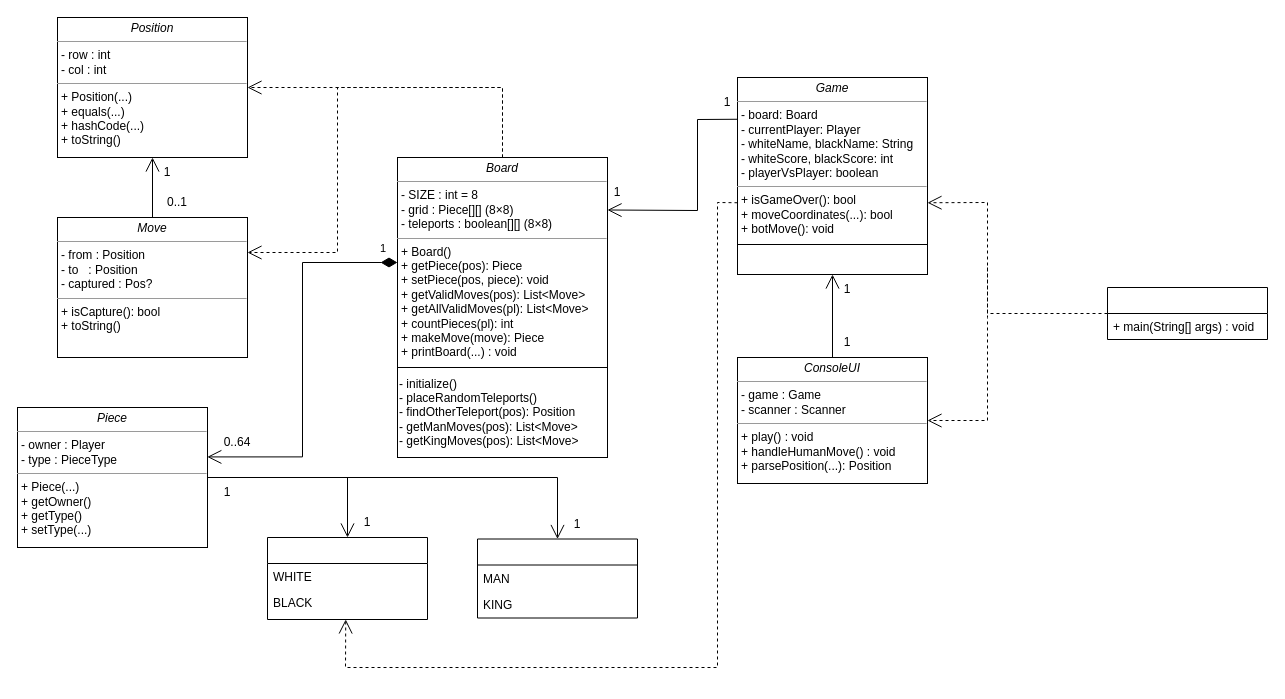
This 1285x699 diagram has some shape labels left out. The box of each missing label's shape, as (x1, y1, x2, y2) in pixels:
- multipleCapture(...): void: (736, 244, 928, 274)
<<enum>> PieceType: (476, 538, 638, 618)
<<enum>> Player: (266, 536, 428, 620)
DamaGame: (1106, 286, 1268, 340)
